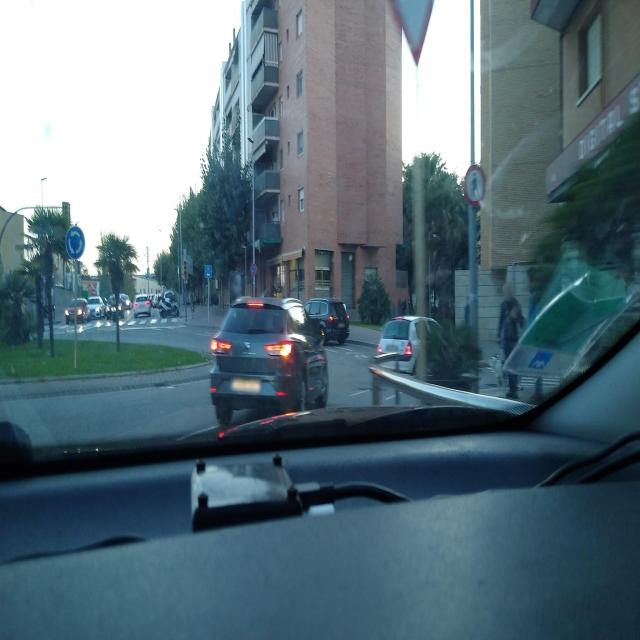forb_stopping: (250, 263, 257, 276)
